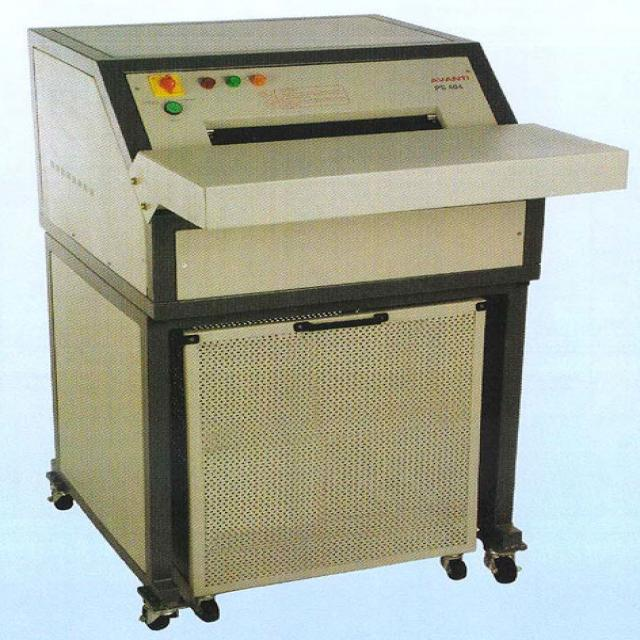palette: (27, 18, 633, 636)
